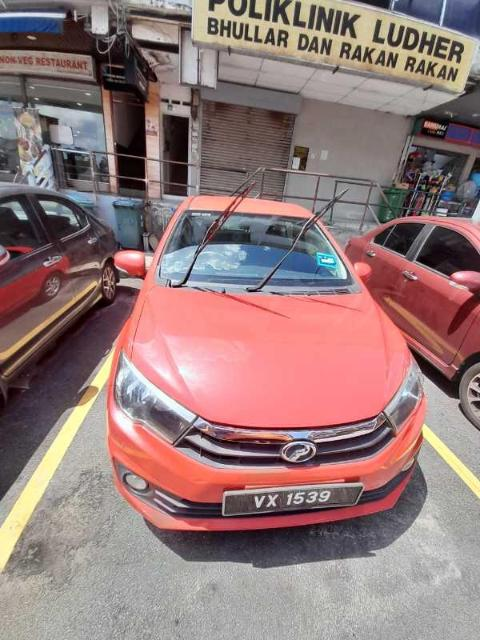License_Plate: (221, 482, 365, 518)
car: (107, 193, 427, 534)
